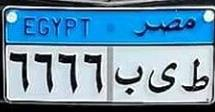6: (34, 52, 56, 94), (59, 53, 80, 94), (10, 52, 31, 92), (86, 52, 103, 94)
Taa: (179, 57, 211, 98)
baa: (114, 61, 145, 98)
yaa: (146, 62, 178, 95)
